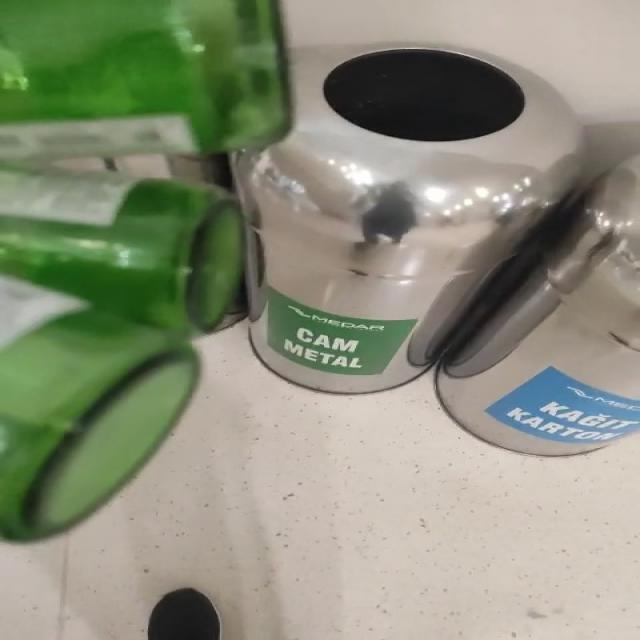Glass: (1, 0, 291, 542)
